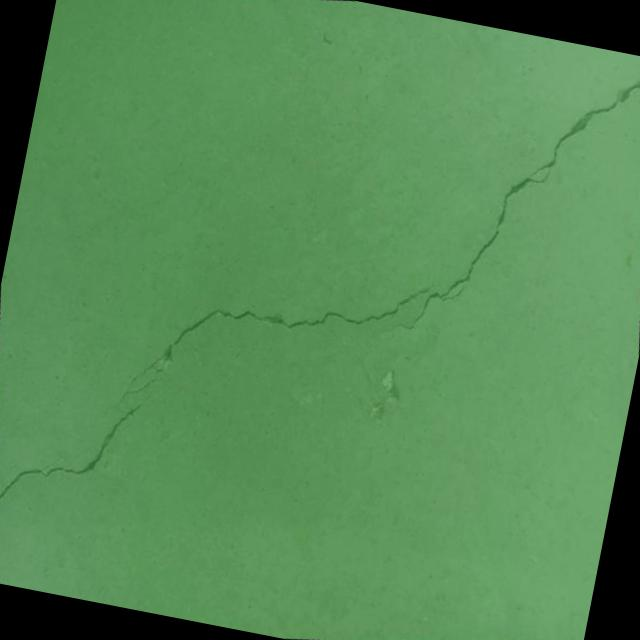crack: (357, 29, 640, 376), (94, 228, 451, 470), (0, 359, 173, 537)
